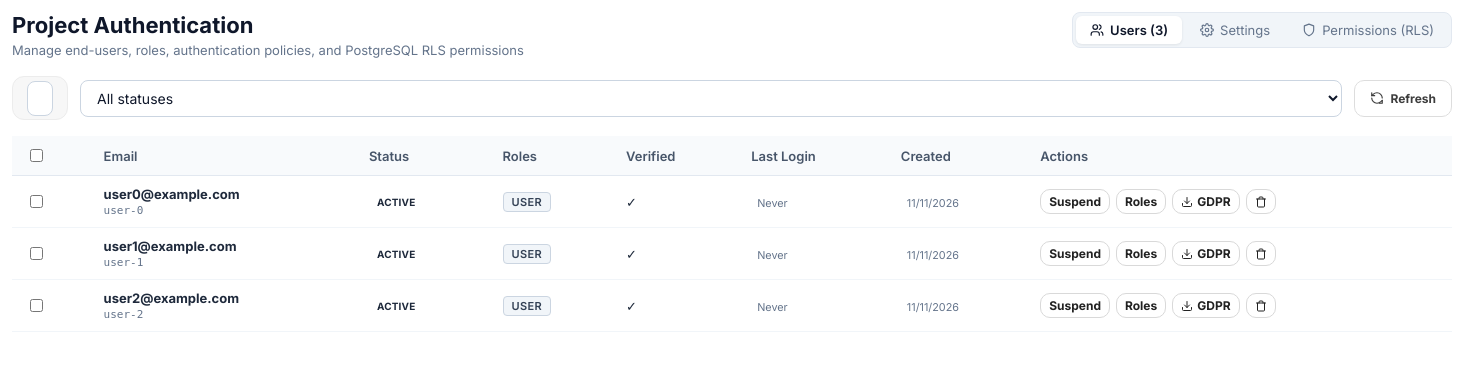
Project Authentication bulk actions › selects individual users, shows a mixed header, selects the visible list and clears it
Click the checkbox named "Select user0@example.com" at (36,202), box [30, 195, 43, 208]
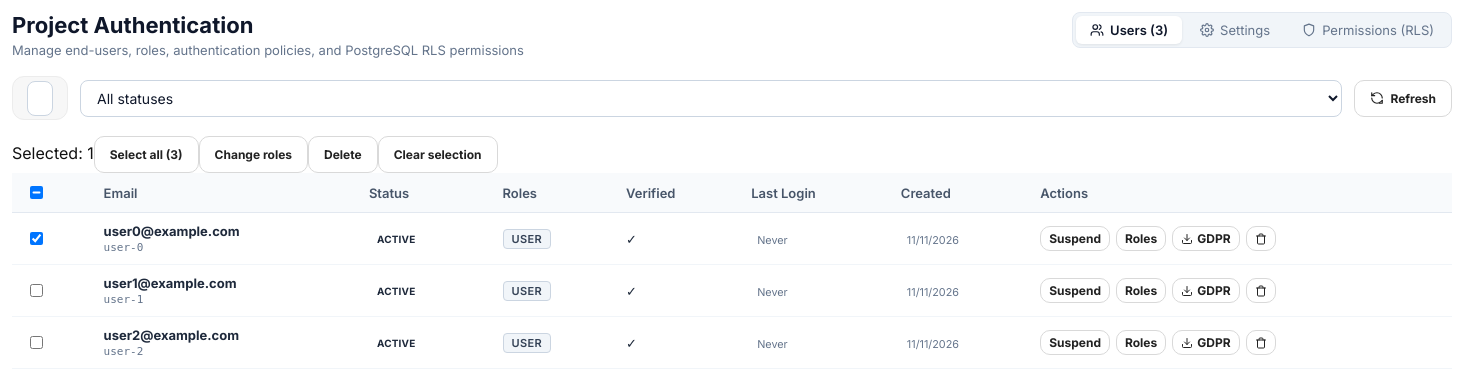
Expected: the message "Selected: 1" is shown, [12, 143, 94, 163]
Click the checkbox named "Select displayed users" at (36,192), box [30, 186, 43, 199]
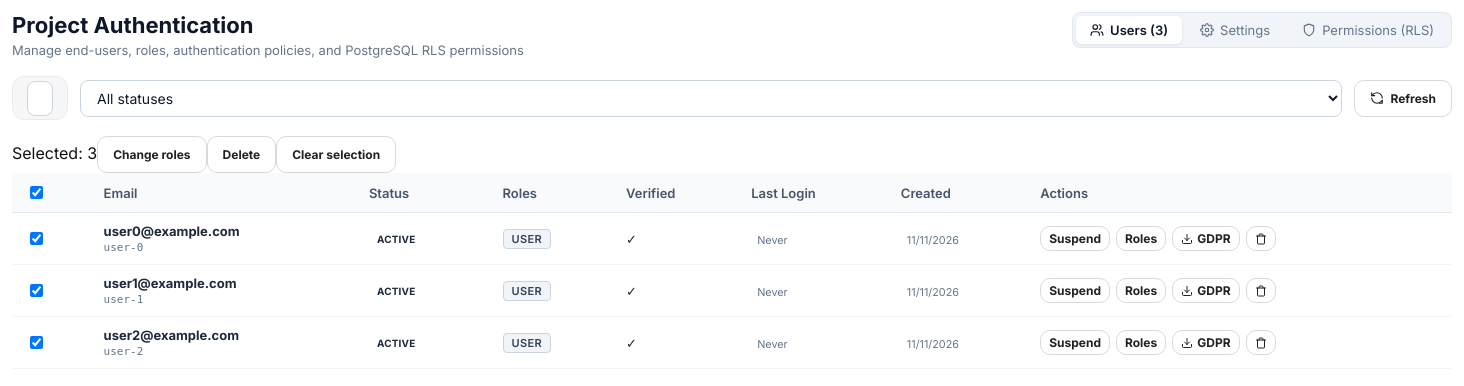
Expected: the button "Clear selection" is shown
Expected: the message "Selected: 3" is shown, [12, 143, 97, 163]
Click the button "Clear selection" at (336,154), box [276, 136, 396, 173]
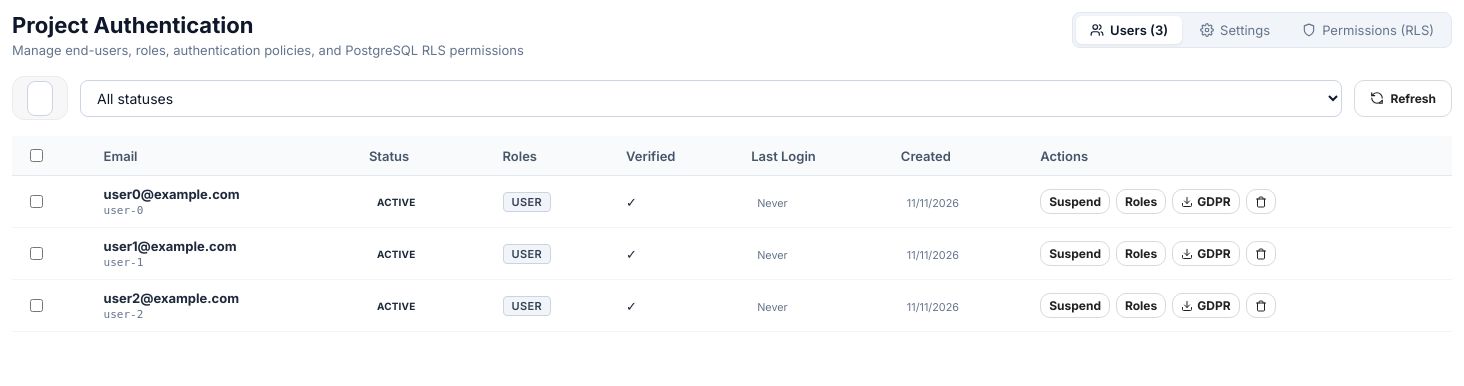
Expected: the element with class "auth-user-bulk-toolbar" is gone
